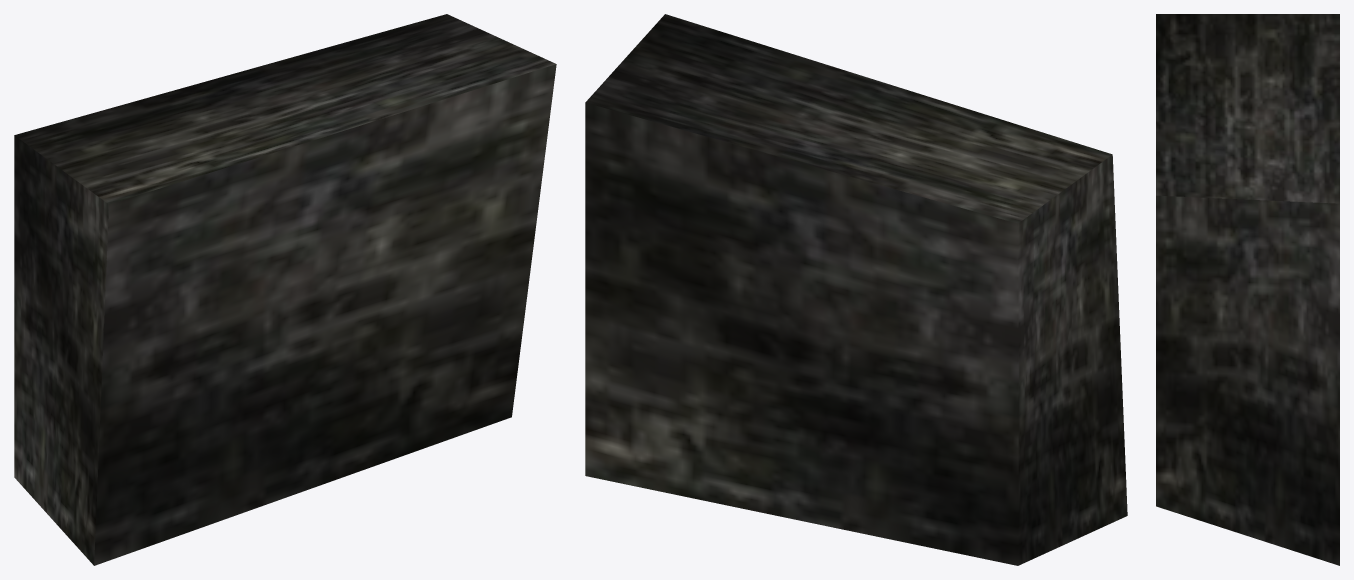
Rendered from OC_LOB_STONE.glb.
The picture shows the model from 3 angles, left to right: view 1: azimuth 30°, elevation 25°; view 2: azimuth 150°, elevation 25°; view 3: azimuth 270°, elevation 25°; orthographic projection. The views are drawn at different scales.
Visible parts, largest first — view 1: Mesh; view 2: Mesh; view 3: Mesh.
Boxes of the visible parts, bbox=[...] form: Mesh: bbox=[14, 14, 556, 565]; Mesh: bbox=[585, 14, 1127, 565]; Mesh: bbox=[1156, 14, 1339, 565].
Bounding box in the file's own units: 1.55 × 1.25 × 0.55.
1 material, 1 textured.
